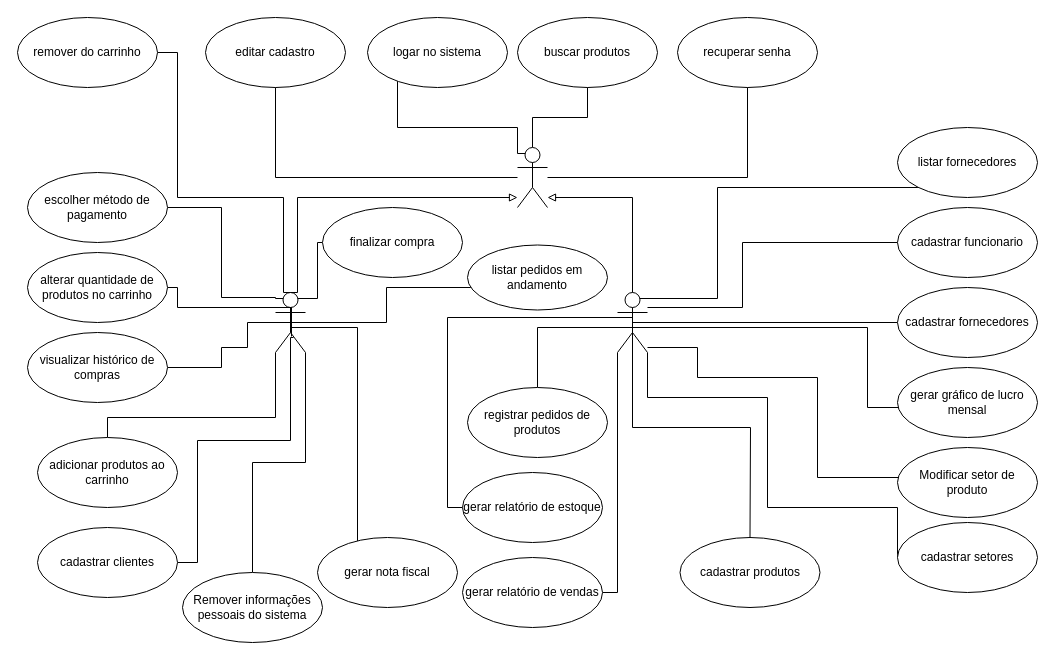
This 1055x660 diagram has some shape labels left out. The centre of each missing label's shape, as x and y in pixels:
"administrador" belongs at (632,322).
"funcionario" belongs at (290,322).
"usuario" belongs at (532,177).
